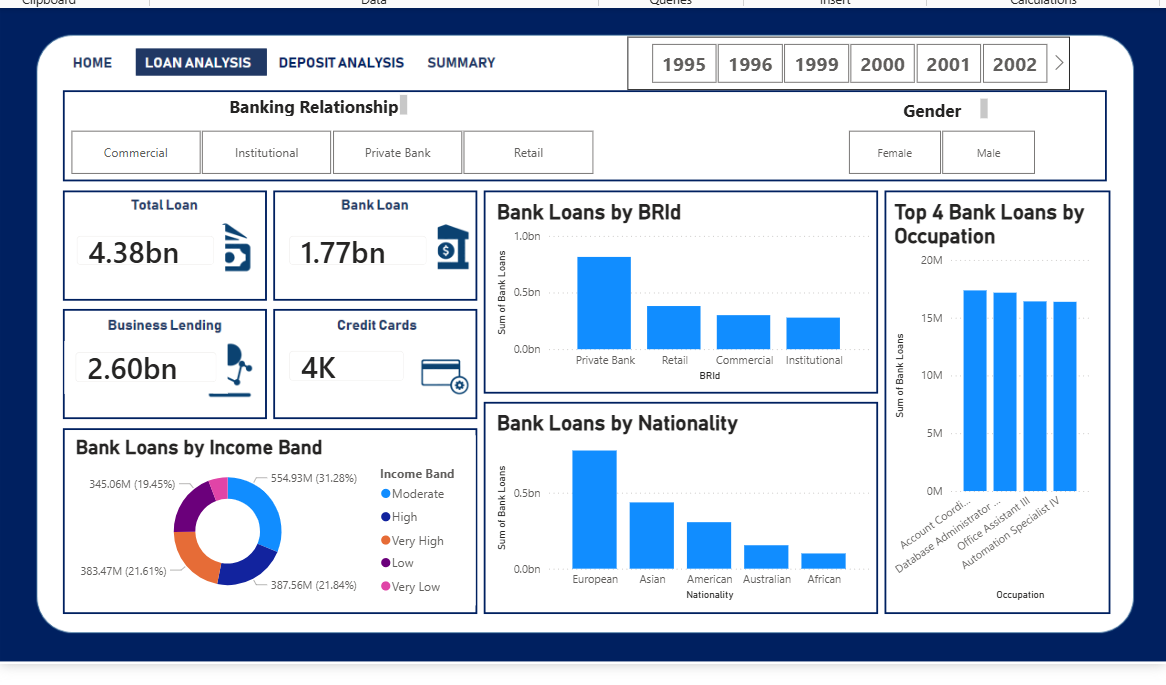

The page's visual inventory and layout, read from the dashboard file:
{"tool":"powerbi","page":{"name":"Loan Analysis","canvas":[1280,720],"ordinal":1},"visuals":[{"type":"cardVisual","fields":{"Data":["Sum(Clients - Banking.Bank Loans)"]},"box":[300.9,233.2,185.1,66.2],"z":0},{"type":"slicer","fields":{"Values":["Clients - Banking.Year of Joining"]},"box":[688.6,31.4,485.7,58.6],"z":1000},{"type":"actionButton","box":[52.9,41.4,100,40],"z":2000},{"type":"actionButton","box":[302.9,41.4,147.1,40],"z":3000},{"type":"actionButton","box":[461.4,41.4,100,40],"z":4000},{"type":"cardVisual","fields":{"Data":["Clients - Banking.Total Loan"]},"box":[67.7,233.2,185.1,66.2],"z":5000},{"type":"cardVisual","fields":{"Data":["Sum(Clients - Banking.Business Lending)"]},"box":[66.2,361.1,189.6,67.7],"z":6000},{"type":"cardVisual","fields":{"Data":["Sum(Clients - Banking.Amount of Credit Cards)"]},"box":[300.9,359.6,161,67.7],"z":7000},{"type":"donutChart","title":"Bank Loans by Income Band","fields":{"Category":["Clients - Banking.Income Band"],"Y":["Sum(Clients - Banking.Bank Loans)"]},"box":[78.2,469.4,443.8,186.6],"z":8000},{"type":"clusteredColumnChart","title":"Bank Loans by BRId","fields":{"Category":["Clients - Banking.BRId"],"Y":["Sum(Clients - Banking.Bank Loans)"]},"box":[540.1,210.6,419.7,204.6],"z":9000},{"type":"clusteredColumnChart","title":"Bank Loans by Nationality","fields":{"Y":["Sum(Clients - Banking.Bank Loans)"],"Category":["Clients - Banking.Nationality"]},"box":[540.1,442.3,419.7,213.6],"z":10000},{"type":"clusteredColumnChart","title":"Top 4 Bank Loans by Occupation","fields":{"Category":["Clients - Banking.Occupation"],"Y":["Sum(Clients - Banking.Bank Loans)"]},"box":[976.4,210.6,224.2,445.3],"z":11000},{"type":"slicer","fields":{"Values":["Clients - Banking.BRId"]},"box":[52.7,127.9,622.9,61.7],"z":12000},{"type":"slicer","fields":{"Values":["Clients - Banking.GenderId"]},"box":[905.7,127.9,254.3,61.7],"z":13000},{"type":"textbox","box":[246.7,90.3,204.6,33.1],"z":14000},{"type":"textbox","box":[986.9,94.8,102.3,33.1],"z":15000}]}

Visuals, with their boxes on the page's 1280x720 design canvas (x1, y1, x2, y2). These are canvas units, not pixel positions in the 1166x685 screenshot, which may show the page scaled, cropped or inside an application window:
cardVisual - Sum(Clients - Banking.Bank Loans): [left=301, top=233, right=486, bottom=299]
slicer - Clients - Banking.Year of Joining: [left=689, top=31, right=1174, bottom=90]
actionButton: [left=53, top=41, right=153, bottom=81]
actionButton: [left=303, top=41, right=450, bottom=81]
actionButton: [left=461, top=41, right=561, bottom=81]
cardVisual - Clients - Banking.Total Loan: [left=68, top=233, right=253, bottom=299]
cardVisual - Sum(Clients - Banking.Business Lending): [left=66, top=361, right=256, bottom=429]
cardVisual - Sum(Clients - Banking.Amount of Credit Cards): [left=301, top=360, right=462, bottom=427]
"Bank Loans by Income Band" donutChart: [left=78, top=469, right=522, bottom=656]
"Bank Loans by BRId" clusteredColumnChart: [left=540, top=211, right=960, bottom=415]
"Bank Loans by Nationality" clusteredColumnChart: [left=540, top=442, right=960, bottom=656]
"Top 4 Bank Loans by Occupation" clusteredColumnChart: [left=976, top=211, right=1201, bottom=656]
slicer - Clients - Banking.BRId: [left=53, top=128, right=676, bottom=190]
slicer - Clients - Banking.GenderId: [left=906, top=128, right=1160, bottom=190]
textbox: [left=247, top=90, right=451, bottom=123]
textbox: [left=987, top=95, right=1089, bottom=128]
